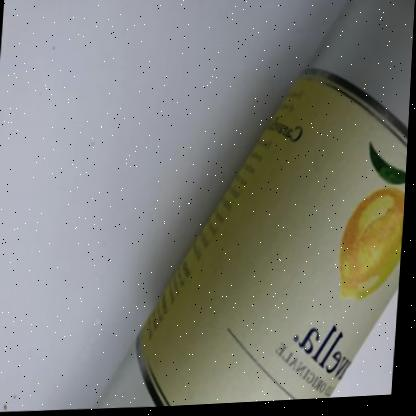Glass: (101, 0, 415, 410)
